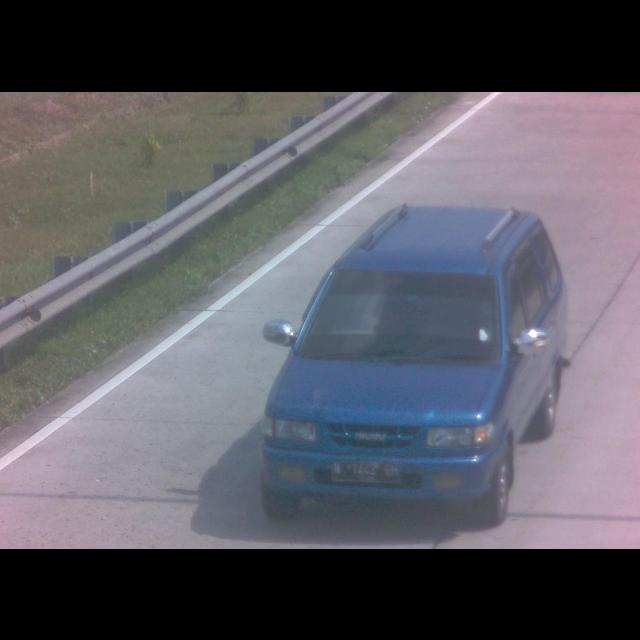plate: (328, 455, 407, 487)
